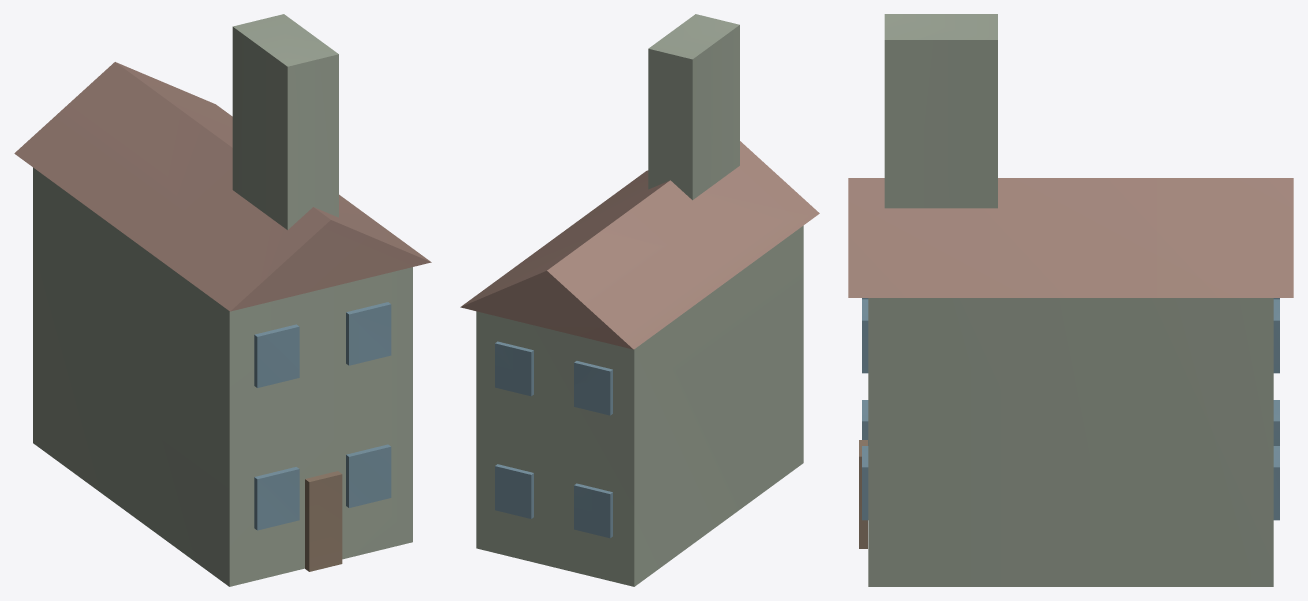
The model's file is church-05.glb.
3 views of the same model, side by side, from view 1: azimuth 30°, elevation 25°; view 2: azimuth 150°, elevation 25°; view 3: azimuth 270°, elevation 25° (orthographic). The views are drawn at different scales.
Visible parts, largest first — view 1: world; view 2: world; view 3: world.
Boxes of the visible parts, x1=… form: world: x1=14, y1=14, x2=431, y2=586; world: x1=460, y1=14, x2=819, y2=586; world: x1=848, y1=14, x2=1293, y2=586.
Size of the model in its own units: 0.9398 by 2.22 by 1.74.
